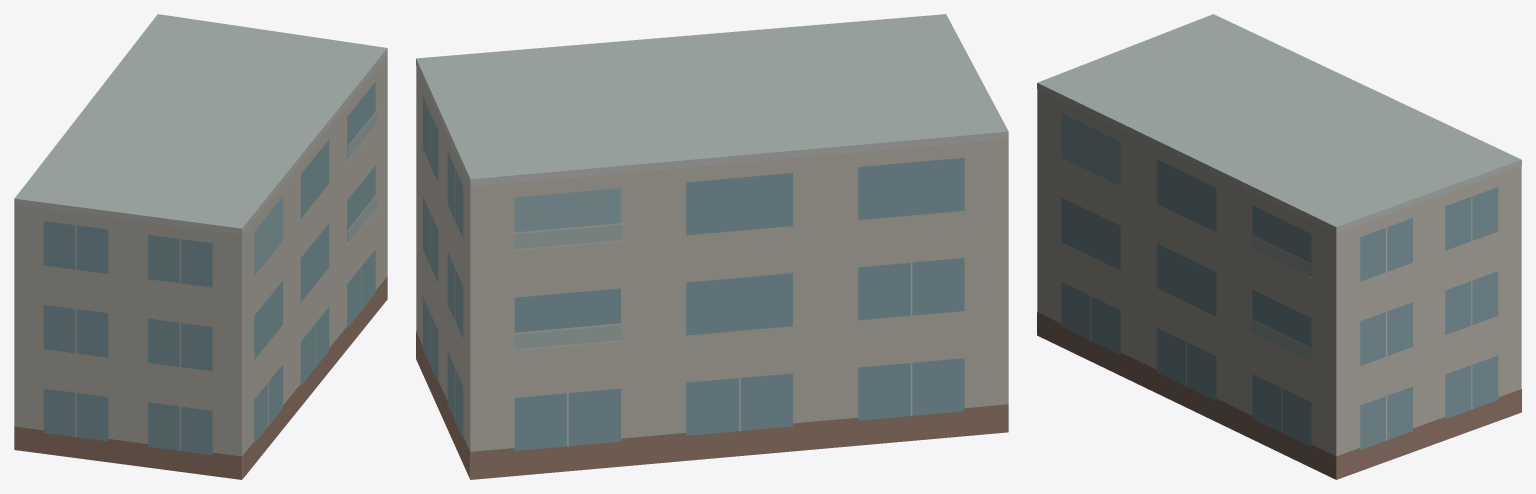
The model's file is survey-upis-32779107.glb.
3 views of the same model, side by side, from view 1: azimuth 30°, elevation 25°; view 2: azimuth 150°, elevation 25°; view 3: azimuth 270°, elevation 25° (orthographic). The views are drawn at different scales.
Parts seen in each view (by area): view 1: survey-upis-32779107.tmp; view 2: survey-upis-32779107.tmp; view 3: survey-upis-32779107.tmp.
Boxes of the visible parts, x1=… form: survey-upis-32779107.tmp: x1=14, y1=14, x2=387, y2=479; survey-upis-32779107.tmp: x1=416, y1=14, x2=1008, y2=479; survey-upis-32779107.tmp: x1=1037, y1=14, x2=1521, y2=479.
Bounding box in the file's own units: 17.91 × 9.9 × 17.21.
